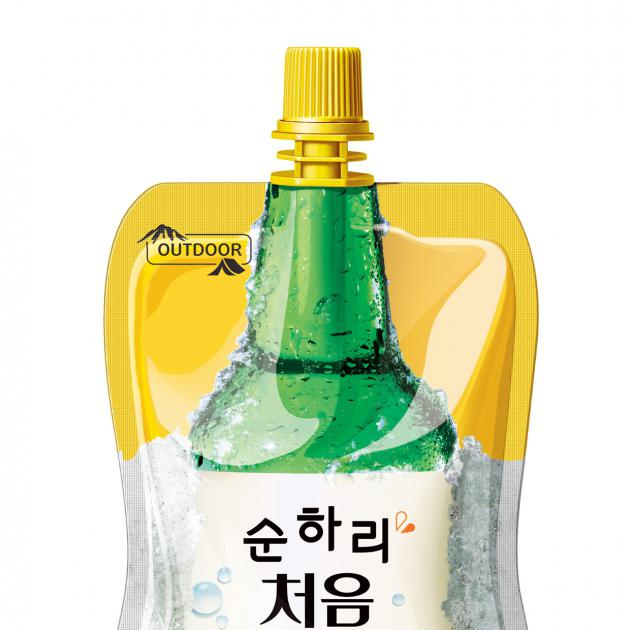soju: (183, 184, 466, 630)
